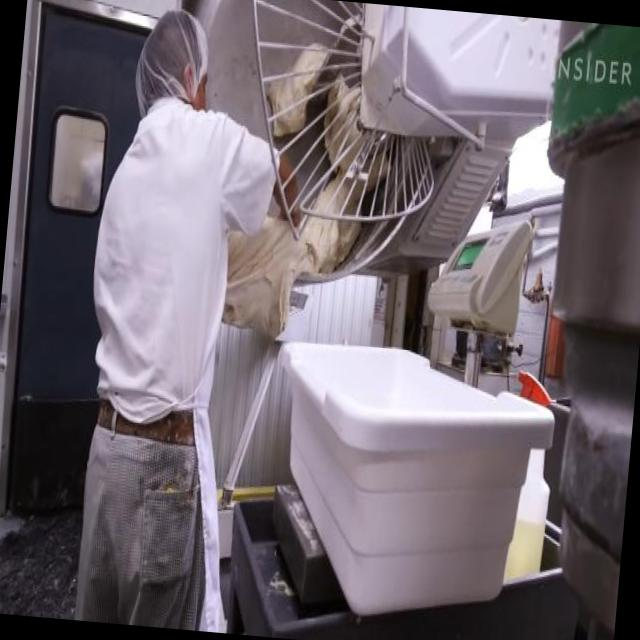hairnet: (135, 8, 206, 94)
